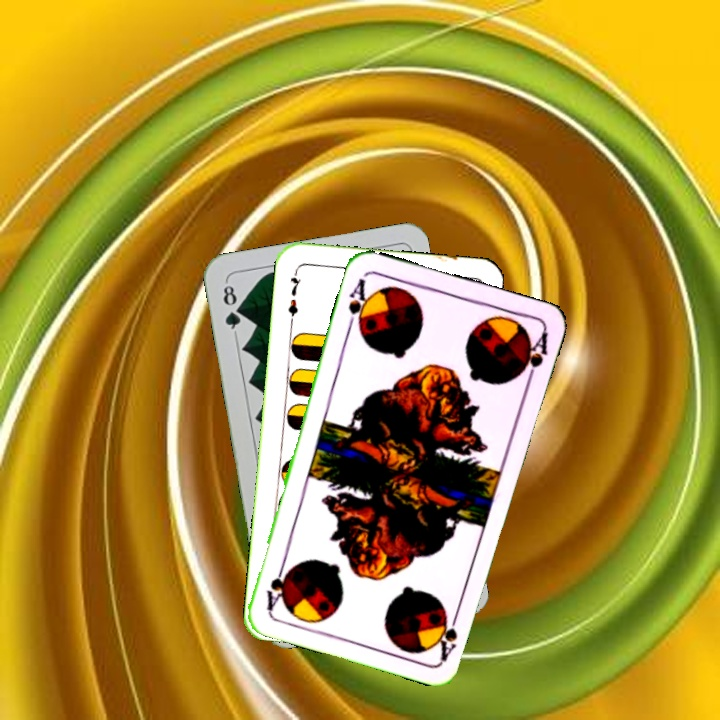E7: (284, 266, 304, 326)
G8: (219, 278, 244, 337)
SA: (343, 274, 374, 334), (435, 604, 463, 663)
